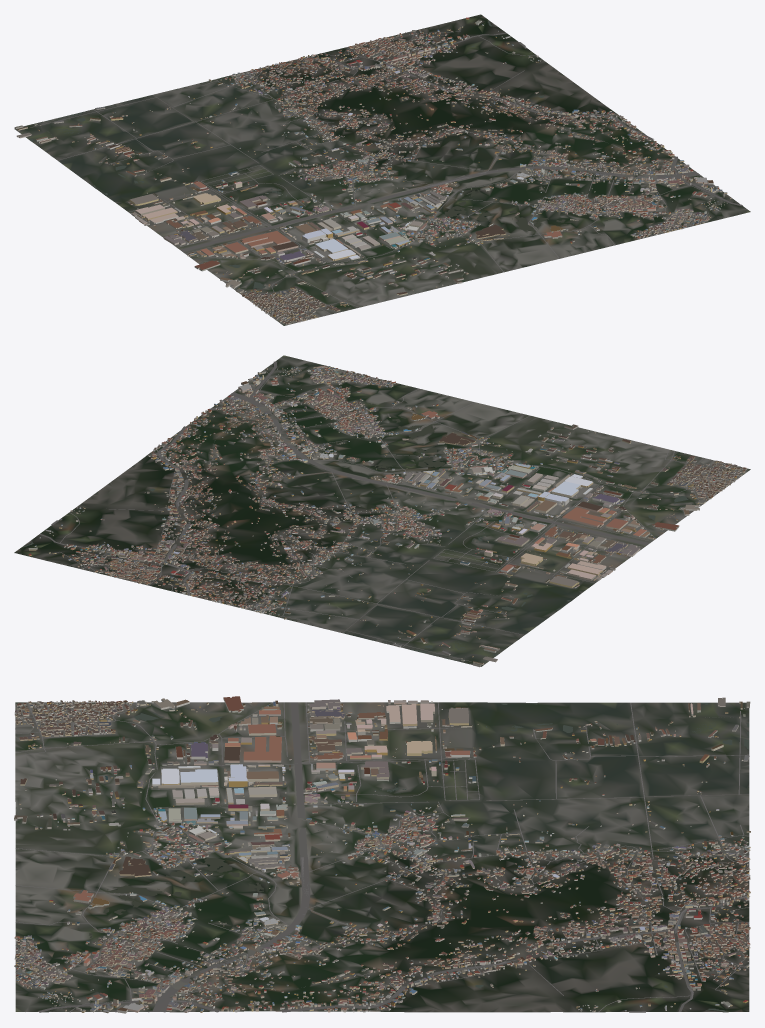
The picture shows the model from 3 angles, top to bottom: view 1: azimuth 30°, elevation 25°; view 2: azimuth 150°, elevation 25°; view 3: azimuth 270°, elevation 25°; orthographic projection. The views are drawn at different scales.
Visible parts, largest first — view 1: ground, buildings, roads, water; view 2: ground, buildings, roads, water; view 3: ground, buildings, roads, water.
Boxes of the visible parts, x1=… form: ground: x1=14, y1=14, x2=750, y2=325; buildings: x1=14, y1=17, x2=731, y2=324; roads: x1=30, y1=29, x2=742, y2=324; water: x1=29, y1=20, x2=731, y2=288; ground: x1=14, y1=355, x2=750, y2=666; buildings: x1=28, y1=365, x2=746, y2=667; roads: x1=39, y1=361, x2=745, y2=661; water: x1=23, y1=367, x2=688, y2=659; ground: x1=15, y1=702, x2=749, y2=1012; buildings: x1=14, y1=696, x2=750, y2=1013; roads: x1=15, y1=702, x2=749, y2=1012; water: x1=55, y1=702, x2=748, y2=1011.
Bounding box in the file's own units: 2856 × 32.25 × 2816.
